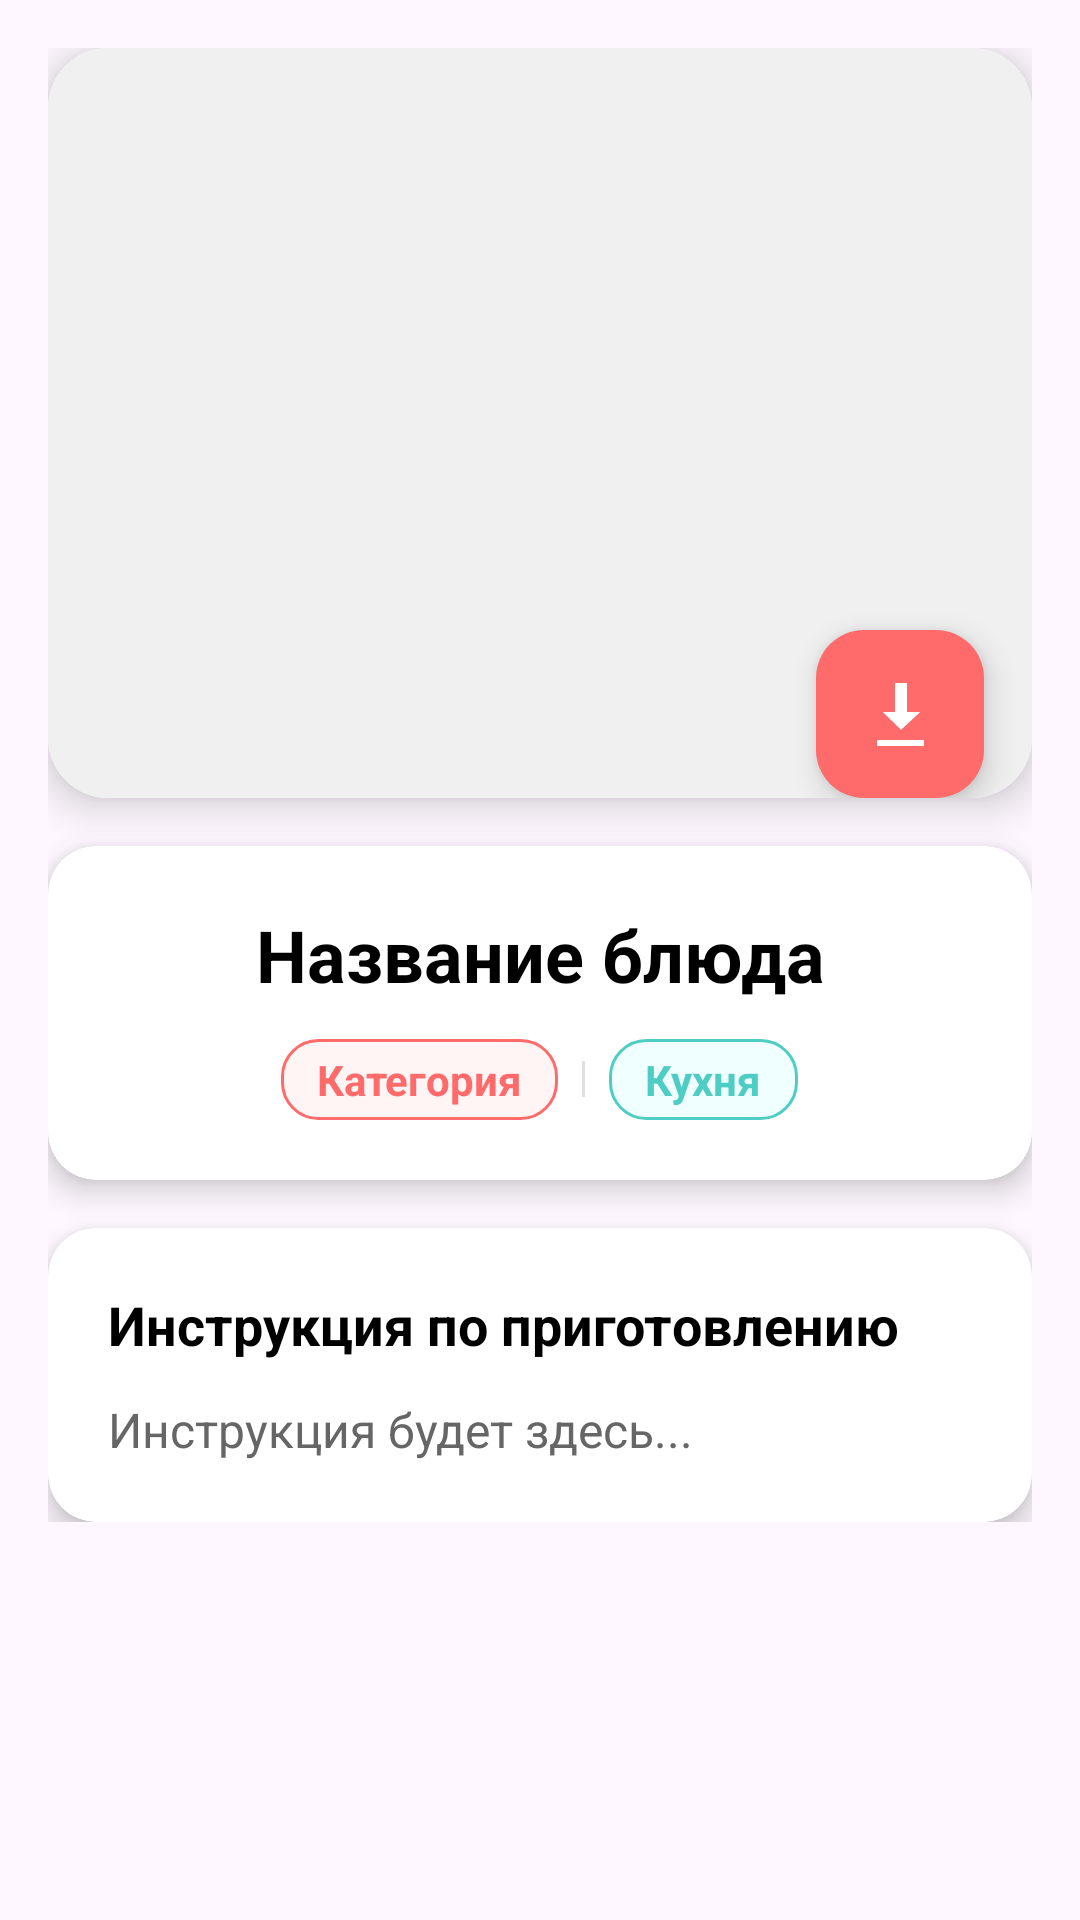

Screen size 1080*1920. Icon name, then its box in pixels as rect(x1, y1, x2, y2):
Сохранить изображение: rect(816, 630, 984, 798)
